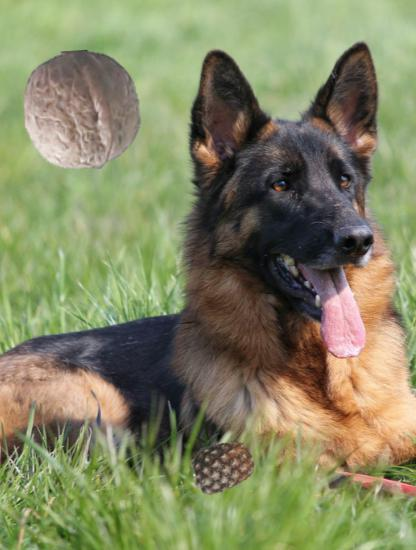Pineapple: (188, 434, 255, 501)
Walnut: (21, 50, 143, 172)
